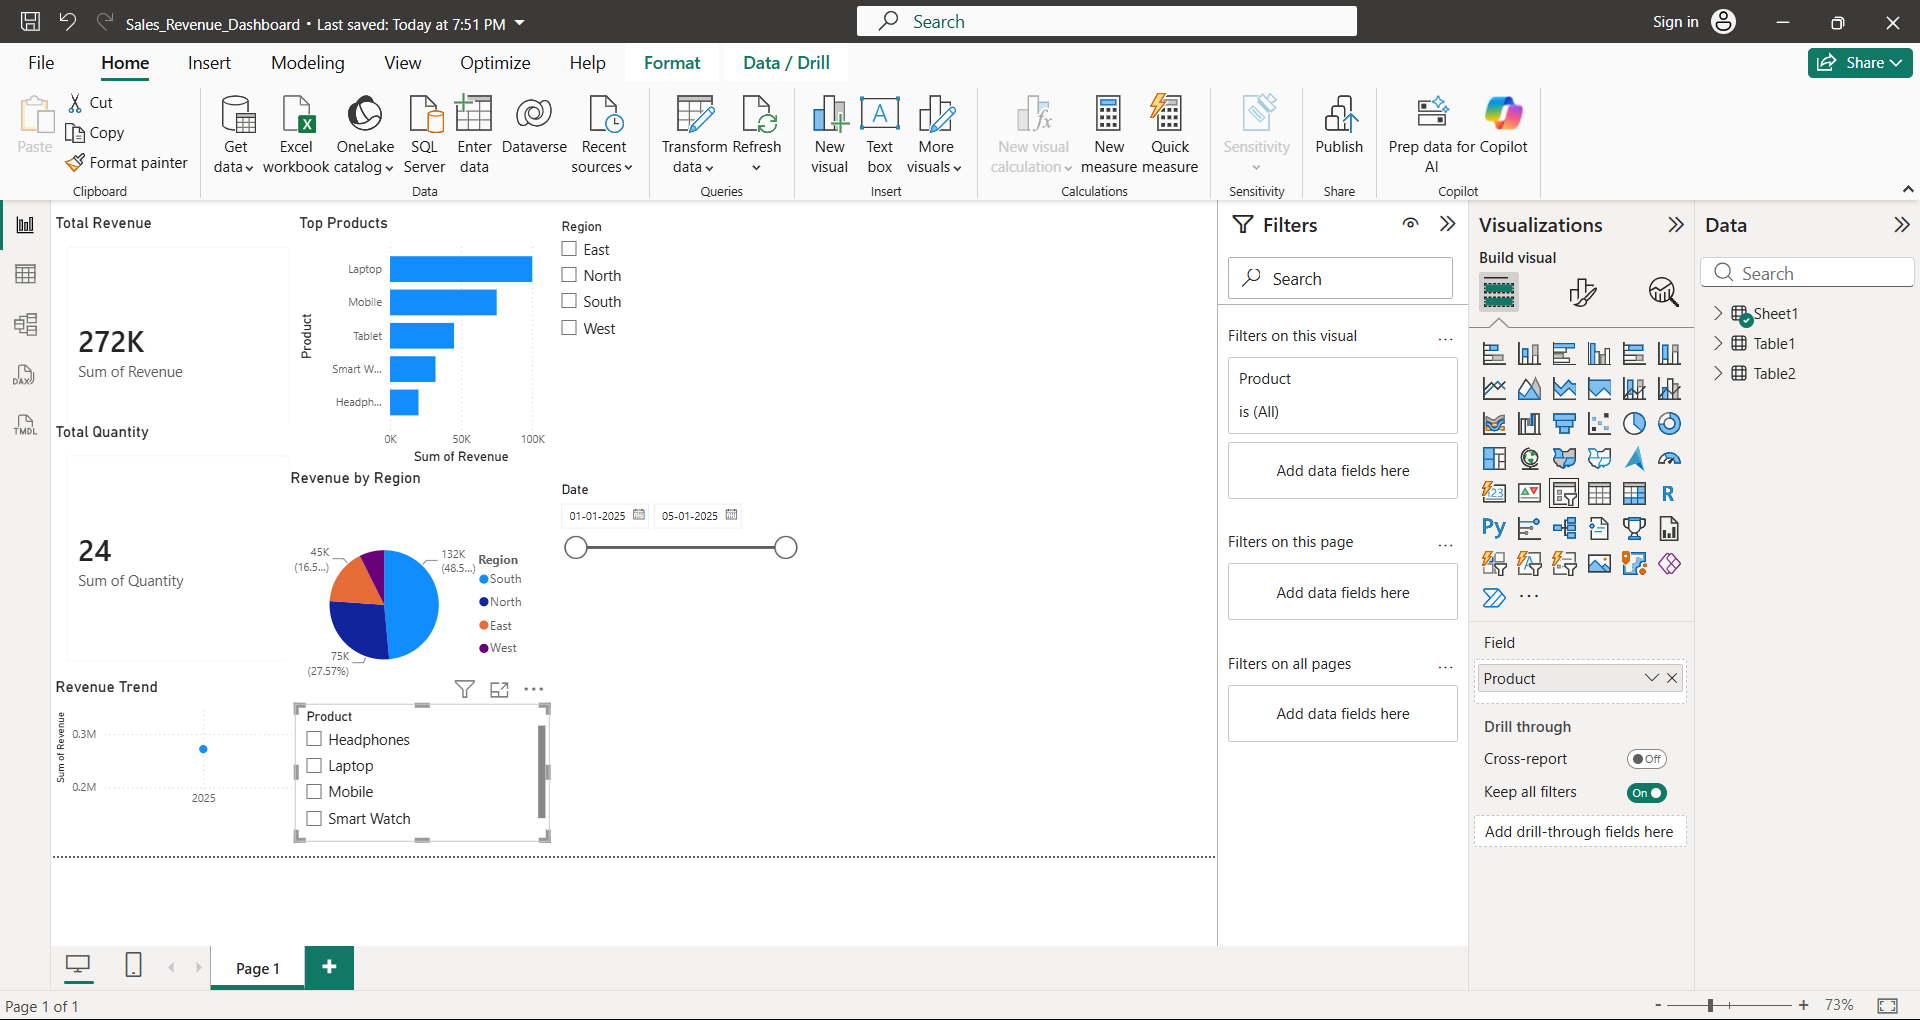

This screenshot's page, from the dashboard's own definition file:
{"tool":"powerbi","page":{"name":"Page 1","canvas":[1280,720],"ordinal":0},"visuals":[{"type":"cardVisual","title":"Total Revenue ","fields":{"Data":["Sum(Sheet1.Revenue)"]},"box":[0,15.1,279.9,279.9],"z":0},{"type":"cardVisual","title":"Total Quantity","fields":{"Data":["Sum(Sheet1.Quantity)"]},"box":[0,244.3,279.9,279.9],"z":1000},{"type":"lineChart","title":"Revenue Trend","fields":{"Category":["Sheet1.Date.Variation.Date Hierarchy.Year","Sheet1.Date.Variation.Date Hierarchy.Quarter","Sheet1.Date.Variation.Date Hierarchy.Month","Sheet1.Date.Variation.Date Hierarchy.Day"],"Y":["Sum(Sheet1.Revenue)"]},"box":[0,524.2,279.9,150.9],"z":2000},{"type":"clusteredBarChart","title":"Top Products","fields":{"Y":["Sum(Sheet1.Revenue)"],"Category":["Sheet1.Product"]},"box":[267.6,15.1,279.9,279.9],"z":2001},{"type":"pieChart","title":"Revenue by Region","fields":{"Category":["Sheet1.Region"],"Y":["Sum(Sheet1.Revenue)"]},"box":[258,295,279.9,279.9],"z":2002},{"type":"slicer","fields":{"Values":["Sheet1.Product"]},"box":[267.6,553,279.9,150.9],"z":2003},{"type":"slicer","fields":{"Values":["Sheet1.Region"]},"box":[547.5,15.1,279.9,279.9],"z":2004},{"type":"slicer","fields":{"Values":["Sheet1.Date"]},"box":[547.5,304.6,279.9,279.9],"z":2005}]}

Visuals, with their boxes on the page's 1280x720 design canvas (x1, y1, x2, y2). These are canvas units, not pixel positions in the 1920x1020 screenshot, which may show the page scaled, cropped or inside an application window:
"Total Revenue " cardVisual: locate(0, 15, 280, 295)
"Total Quantity" cardVisual: locate(0, 244, 280, 524)
"Revenue Trend" lineChart: locate(0, 524, 280, 675)
"Top Products" clusteredBarChart: locate(268, 15, 548, 295)
"Revenue by Region" pieChart: locate(258, 295, 538, 575)
slicer - Sheet1.Product: locate(268, 553, 548, 704)
slicer - Sheet1.Region: locate(548, 15, 827, 295)
slicer - Sheet1.Date: locate(548, 305, 827, 584)
